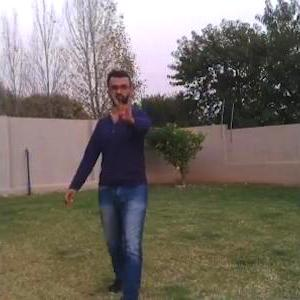takeoff-hand: (109, 91, 142, 125)
